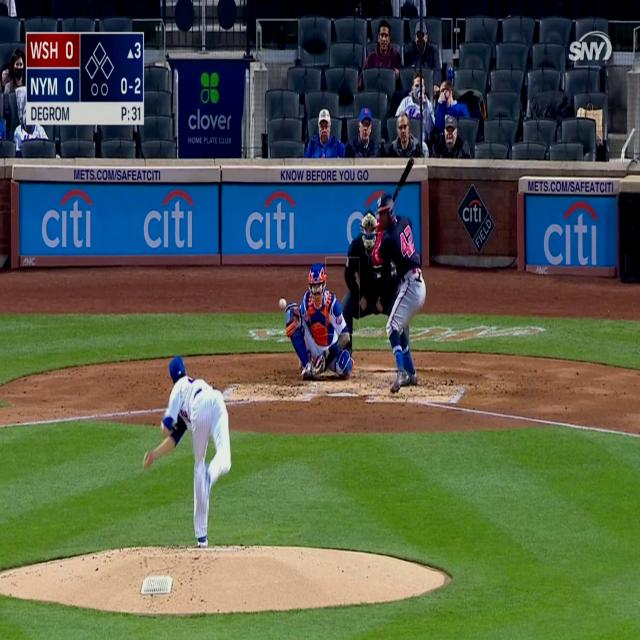baseball: (279, 298, 287, 310)
